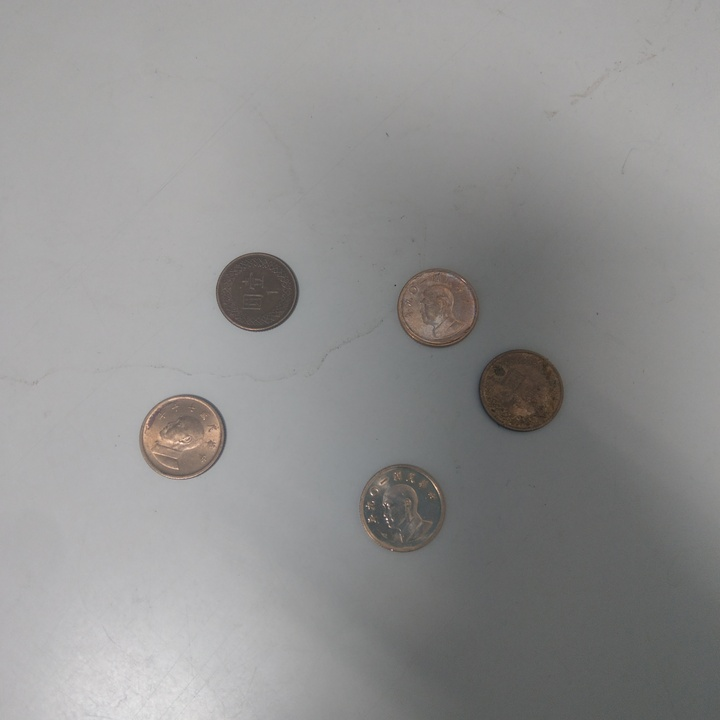1 dollar: (474, 347, 566, 437), (137, 394, 228, 482), (360, 462, 447, 554), (212, 252, 298, 332), (398, 269, 481, 350)
